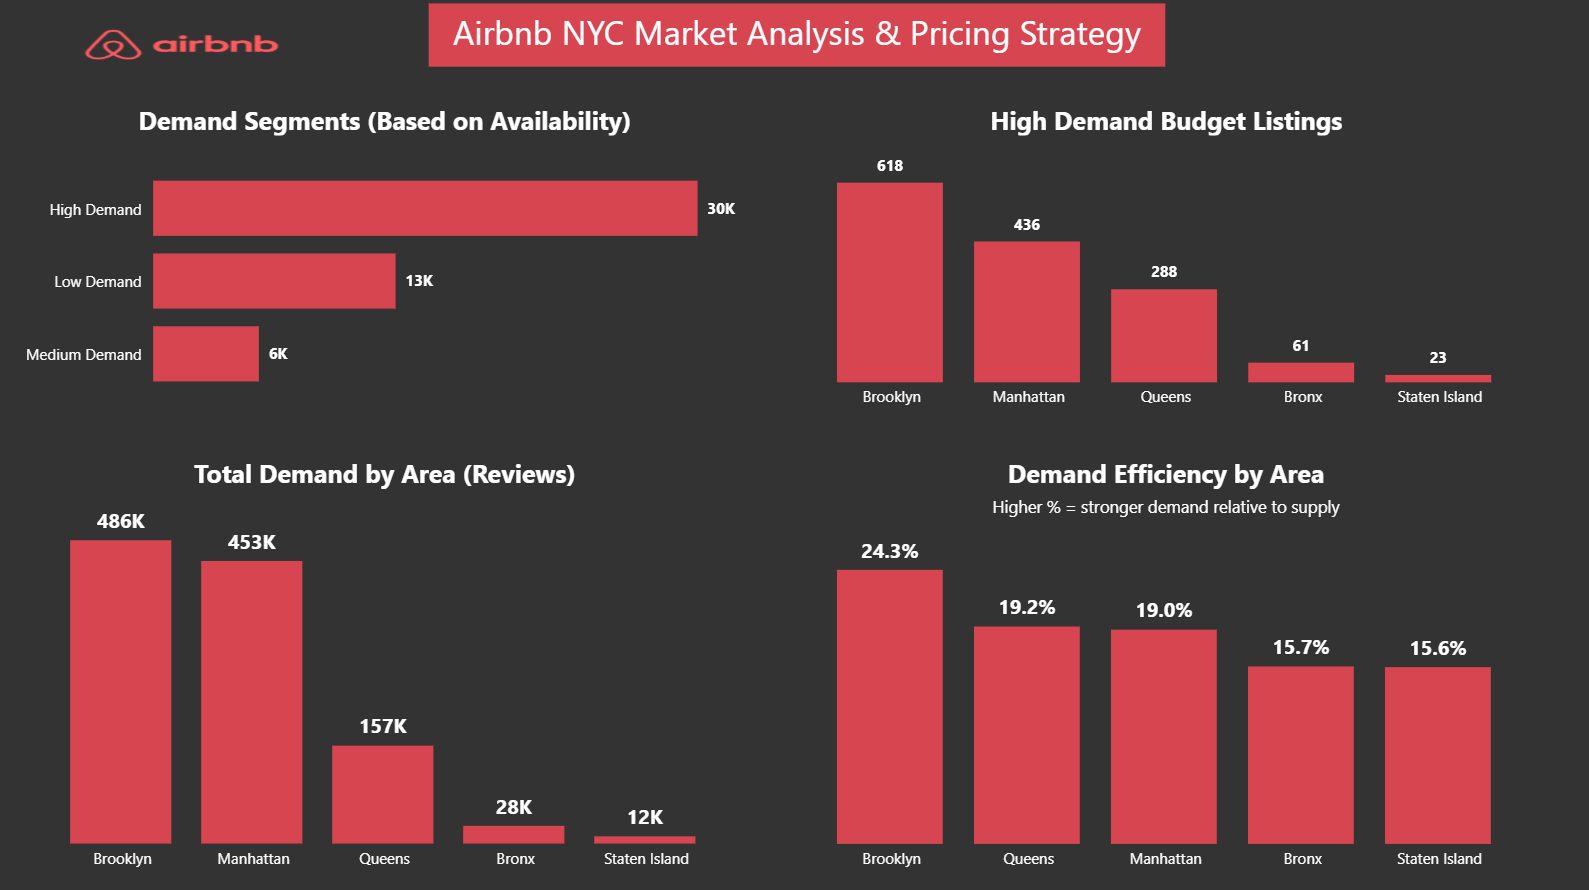

Layout of this report page (visuals, bound fields, positions):
{"tool":"powerbi","page":{"name":"Page 2","canvas":[1280,720],"ordinal":1},"visuals":[{"type":"clusteredBarChart","title":"Demand Segments (Based on Availability)","fields":{"Category":["cleaned_airbnb.Availability Category"],"Y":["CountNonNull(cleaned_airbnb.id)"]},"box":[13.6,85.6,595.2,253.8],"z":0},{"type":"textbox","box":[346.2,6.4,587.8,50.5],"z":1000},{"type":"image","box":[49.6,6.4,199.3,66.1],"z":2000},{"type":"clusteredColumnChart","title":"High Demand Budget Listings","fields":{"Category":["cleaned_airbnb.Neighbourhood_group"],"Y":["CountNonNull(cleaned_airbnb.id)"]},"box":[623.4,85.6,622.4,254.8],"z":3000},{"type":"columnChart","title":"Total Demand by Area (Reviews)","fields":{"Category":["cleaned_airbnb.Neighbourhood_group"],"Y":["Sum(cleaned_airbnb.number_of_reviews)"]},"box":[13.6,367.6,595.2,340.4],"z":4000},{"type":"clusteredColumnChart","title":"Demand Efficiency by Area","fields":{"Category":["cleaned_airbnb.Neighbourhood_group"],"Y":["cleaned_airbnb.Demand_Supply_Ratio","cleaned_airbnb.Demand_Supply_Ratio"]},"box":[623,368,622,340],"z":5000}]}

Visuals, with their boxes in screenshot pixels (x1, y1, x2, y2), scaled from the page's 1280x720 canvas onto the 1589x890 screenshot:
"Demand Segments (Based on Availability)" clusteredBarChart: (left=17, top=106, right=756, bottom=420)
textbox: (left=430, top=8, right=1159, bottom=70)
image: (left=62, top=8, right=309, bottom=90)
"High Demand Budget Listings" clusteredColumnChart: (left=774, top=106, right=1547, bottom=421)
"Total Demand by Area (Reviews)" columnChart: (left=17, top=454, right=756, bottom=875)
"Demand Efficiency by Area" clusteredColumnChart: (left=773, top=455, right=1546, bottom=875)
